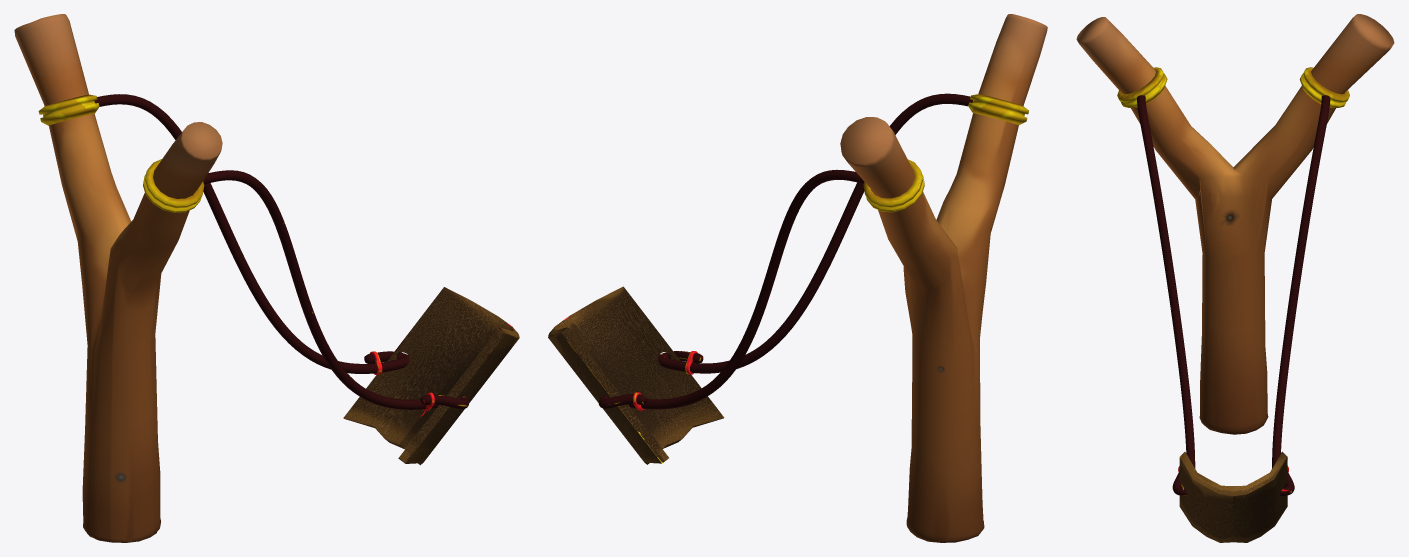
The model's file is Slingshot.glb.
The picture shows the model from 3 angles, left to right: view 1: azimuth 30°, elevation 25°; view 2: azimuth 150°, elevation 25°; view 3: azimuth 270°, elevation 25°; orthographic projection. The views are drawn at different scales.
Visible parts, largest first — view 1: Slingshot_0, Seat_3, Rubber_2, Rings_1; view 2: Slingshot_0, Seat_3, Rubber_2, Rings_1; view 3: Slingshot_0, Rubber_2, Seat_3, Rings_1.
Boxes of the visible parts, left/top/right/bottom form: Slingshot_0: left=14, top=14, right=222, bottom=542; Seat_3: left=343, top=287, right=519, bottom=465; Rubber_2: left=94, top=94, right=468, bottom=410; Rings_1: left=38, top=94, right=204, bottom=212; Slingshot_0: left=840, top=14, right=1047, bottom=542; Seat_3: left=548, top=286, right=724, bottom=464; Rubber_2: left=598, top=93, right=972, bottom=410; Rings_1: left=863, top=94, right=1028, bottom=212; Slingshot_0: left=1076, top=14, right=1394, bottom=434; Rubber_2: left=1137, top=95, right=1330, bottom=495; Seat_3: left=1179, top=451, right=1287, bottom=542; Rings_1: left=1117, top=67, right=1349, bottom=108.
Size of the model in its own units: 0.3747 by 0.3892 by 0.2777.
2 materials, 2 textured.
